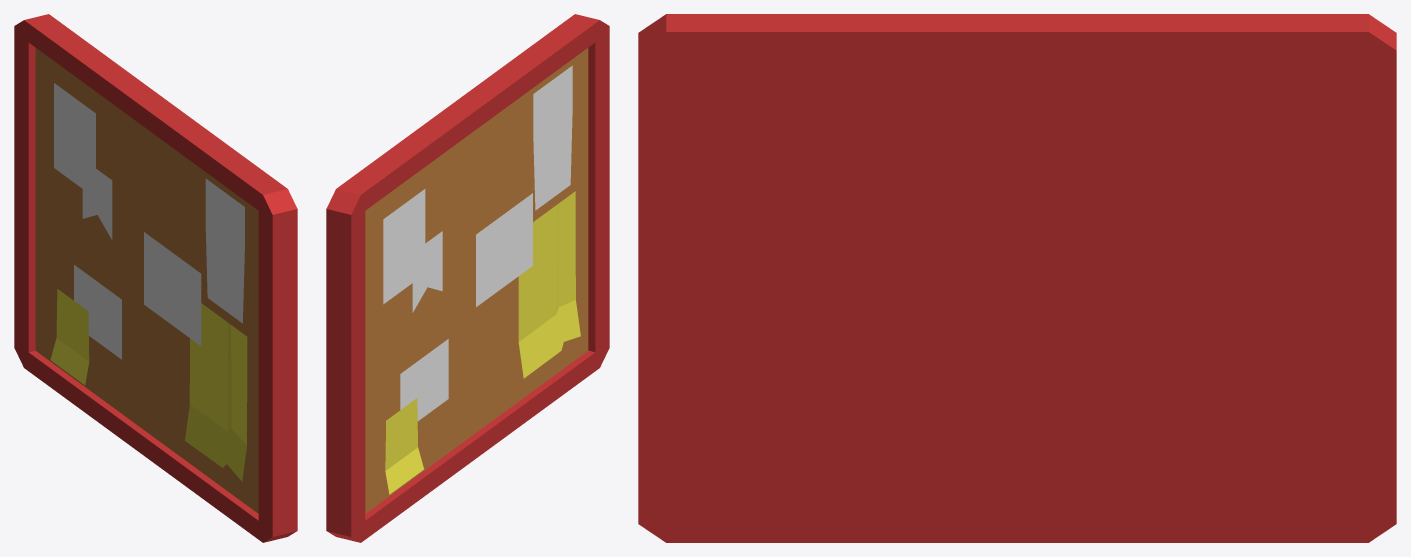
The model's file is SM_board_01.fbx.
3 views of the same model, side by side, from view 1: azimuth 30°, elevation 25°; view 2: azimuth 150°, elevation 25°; view 3: azimuth 270°, elevation 25° (orthographic). The views are drawn at different scales.
Parts seen in each view (by area): view 1: board_desk_01, board_frame_01, board_sheet_01; view 2: board_desk_01, board_frame_01, board_sheet_01; view 3: board_frame_01.
Boxes of the visible parts, left/top/right/bottom form: board_desk_01: left=35, top=48, right=258, bottom=513; board_frame_01: left=14, top=14, right=297, bottom=542; board_sheet_01: left=50, top=83, right=247, bottom=481; board_desk_01: left=365, top=48, right=588, bottom=513; board_frame_01: left=326, top=14, right=609, bottom=542; board_sheet_01: left=383, top=65, right=580, bottom=494; board_frame_01: left=638, top=14, right=1396, bottom=542.
Bounding box in the file's own units: 8.43 × 108 × 145.
